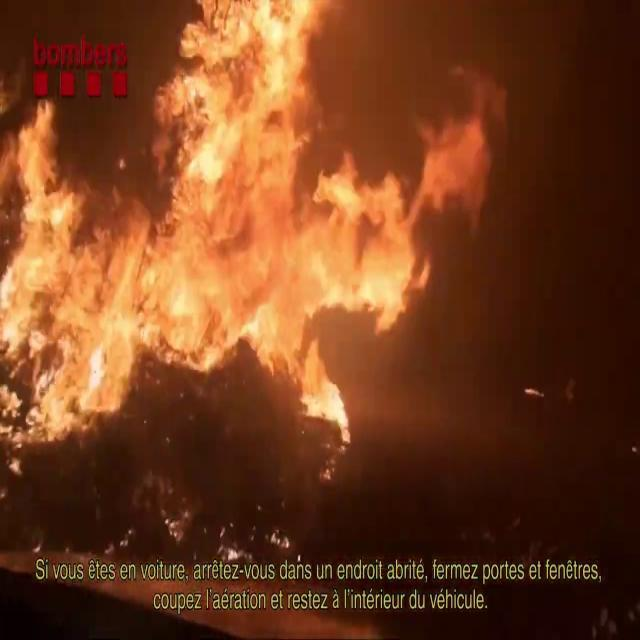Fire: (0, 2, 490, 464)
